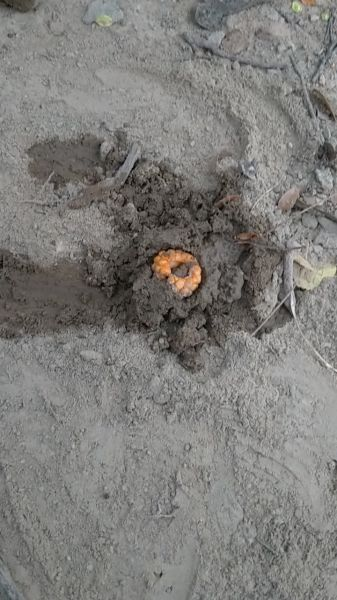eggs: (143, 241, 212, 304)
